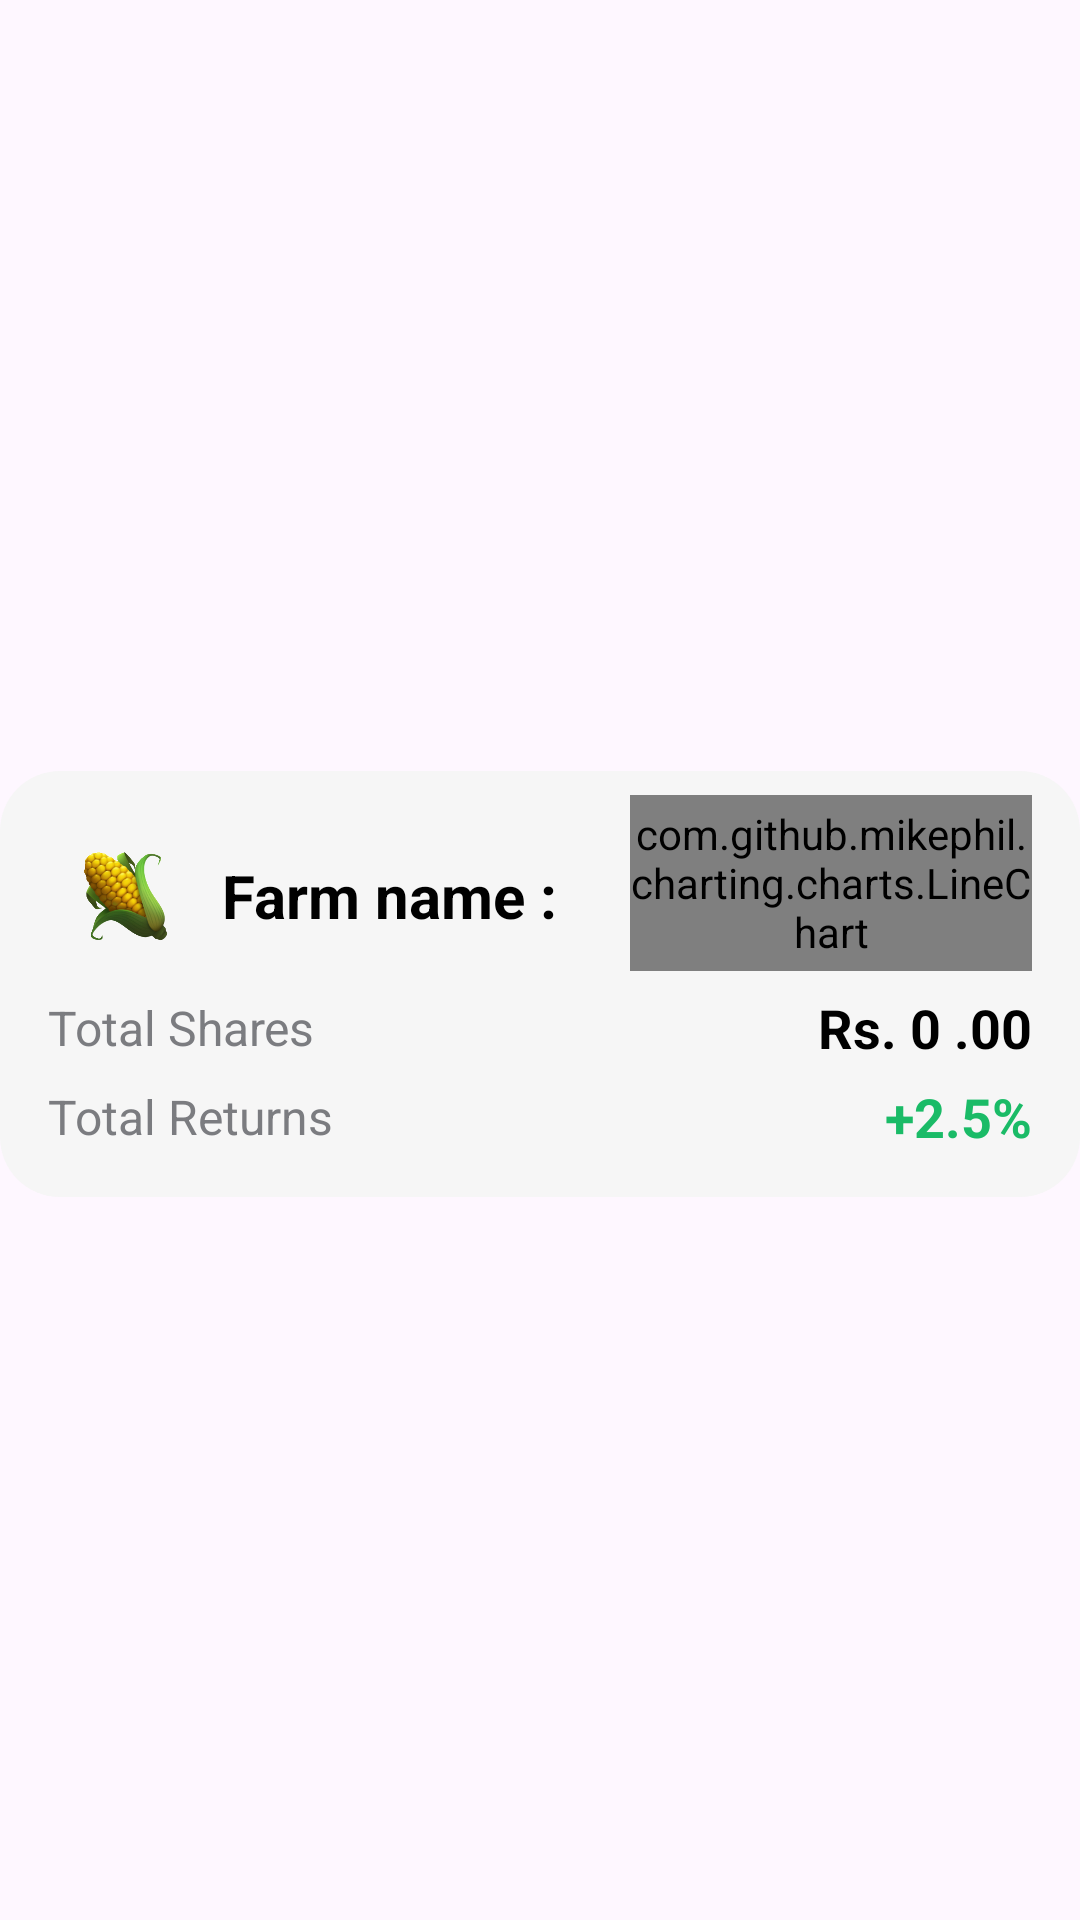

Icon bounding boxes for this 1080w x 1920h phone screenshot, format (x1, y1, x2, y2):
corn: (84, 852, 167, 940)
